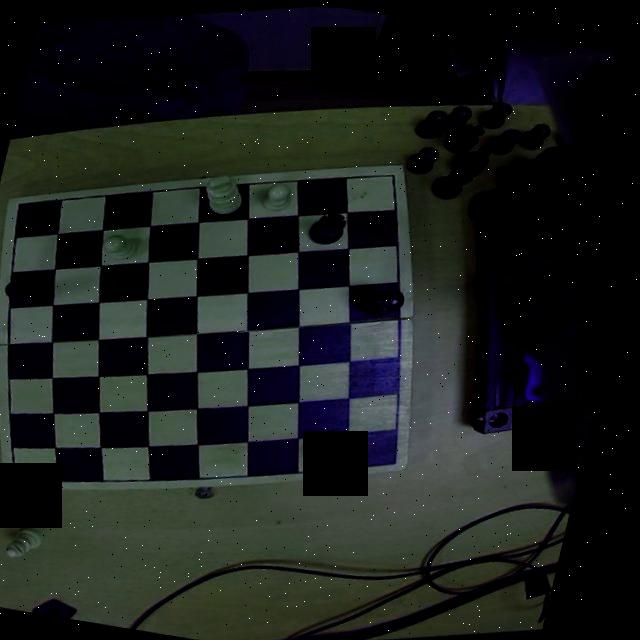chess-table-corners: (383, 442, 417, 473), (8, 192, 42, 218), (380, 162, 410, 191), (8, 462, 38, 488)
